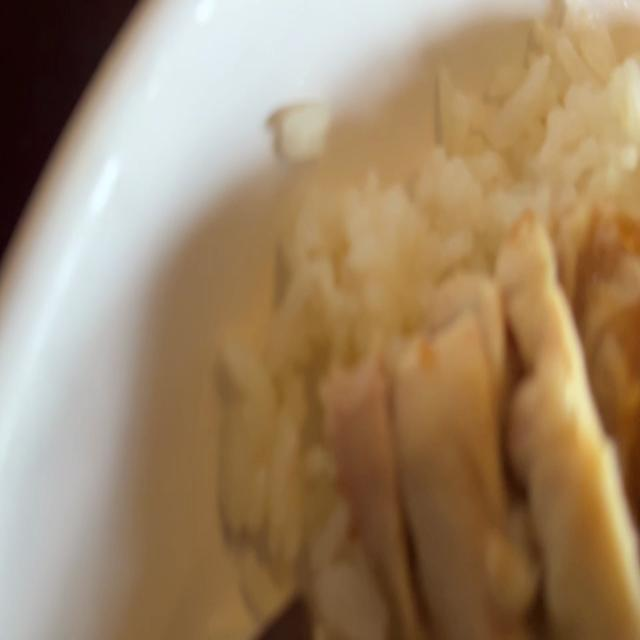boiled_chicken: (354, 221, 640, 640)
boiled_chicken_blood_jelly: (255, 563, 329, 640)
chicken_rice: (189, 0, 640, 640)
